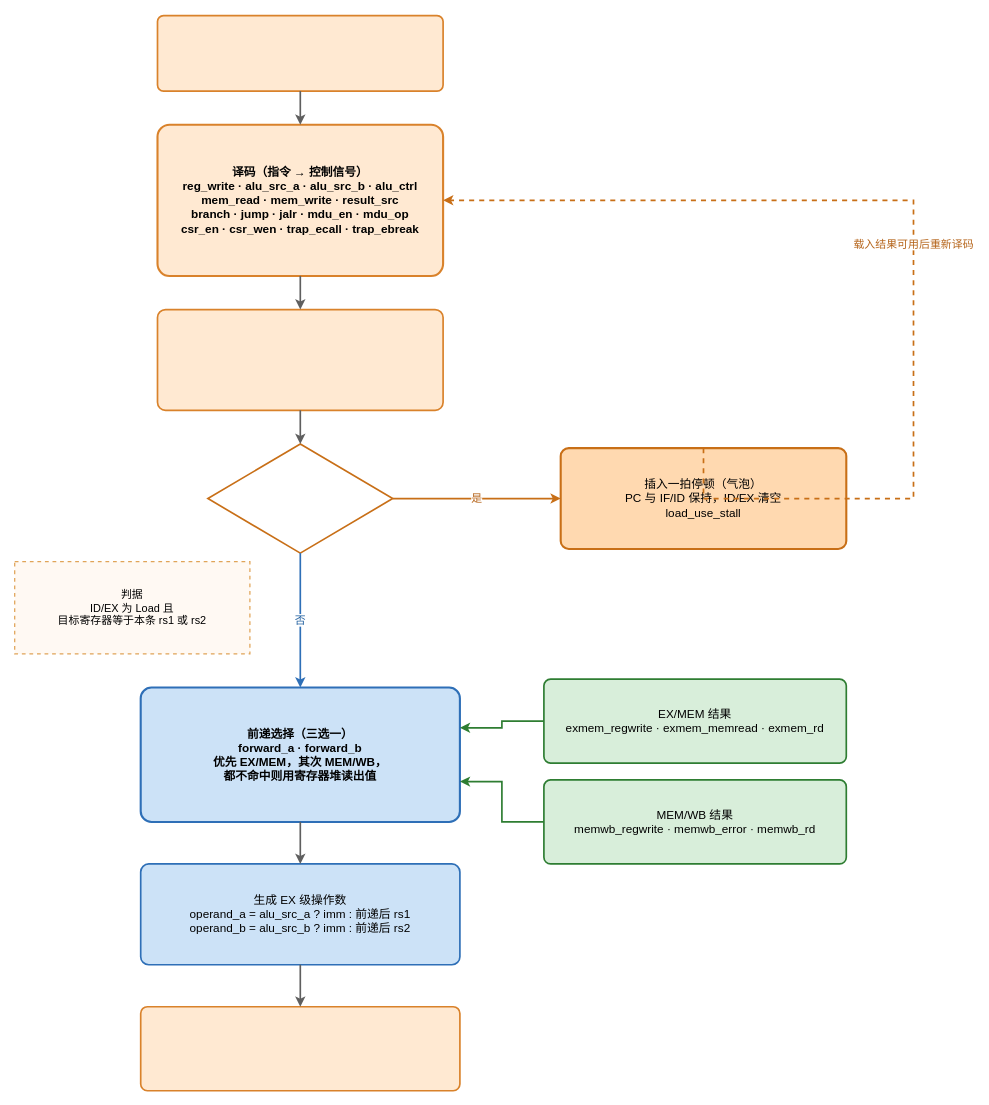
This 989x1105 diagram has some shape labels left out. Here are the shapes that lost their labels. From the top down, the centre of each, then its label:
the point at 300,53: 指令字进入译码级 ifid_instr
the point at 300,359: 提取源寄存器与立即数 rs1 · rs2 · rd · imm 寄存器堆读出 rs1_data · rs2_data
the point at 300,498: Load-Use 冲突 ?
the point at 299,1048: 写入 ID/EX idex_* 控制信号与操作数
